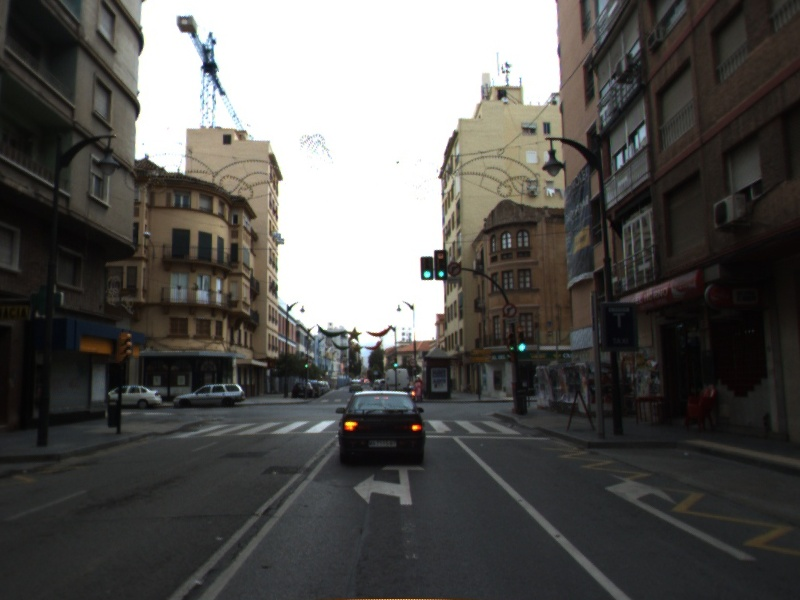RIGHT: (603, 472, 760, 562)
STRAIGHT_LEFT: (351, 462, 426, 506)
